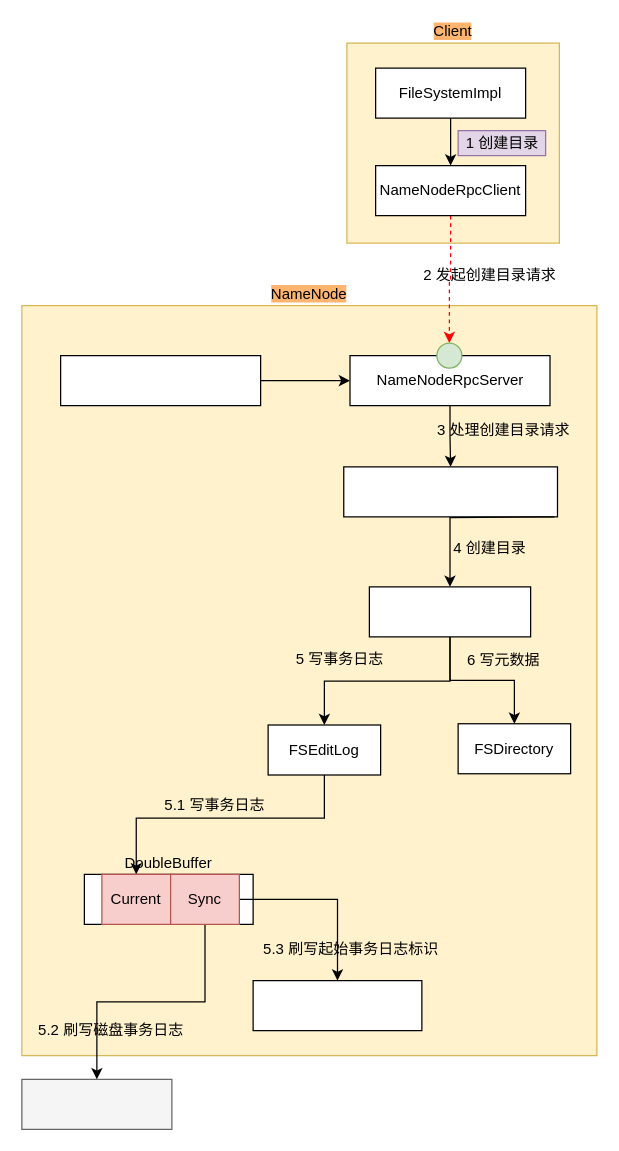
The diagram is 619 pixels wide and 1151 high, and some of its shapes have lost their labels. Each missing label, with the centre of its shape:
"edits-x-y.log" belongs at point 96,1103.
"FSNameSystem" belongs at point 449,611.
"NameNodeRpcService" belongs at point 450,491.
"NameNodeServer" belongs at point 160,380.
"RuntimeRepository" belongs at point 337,1005.
